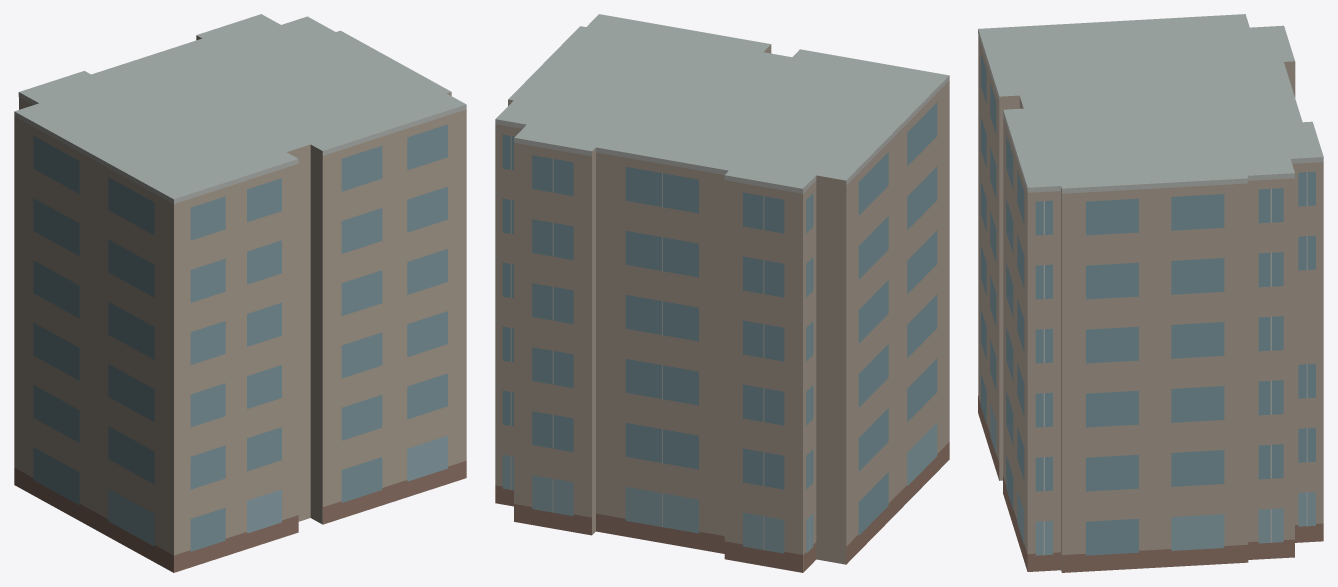
The model's file is survey-upis-32673168.glb.
3 renders of one model, left to right at view 1: azimuth 30°, elevation 25°; view 2: azimuth 150°, elevation 25°; view 3: azimuth 270°, elevation 25°, orthographic. The views are drawn at different scales.
Parts seen in each view (by area): view 1: survey-upis-32673168.tmp; view 2: survey-upis-32673168.tmp; view 3: survey-upis-32673168.tmp.
Part boxes in pixels (x1,y1,x2,y2): survey-upis-32673168.tmp: [14, 14, 466, 572]; survey-upis-32673168.tmp: [495, 14, 949, 572]; survey-upis-32673168.tmp: [978, 14, 1323, 572].
Bounding box in the file's own units: 18.25 × 18.7 × 15.26.
